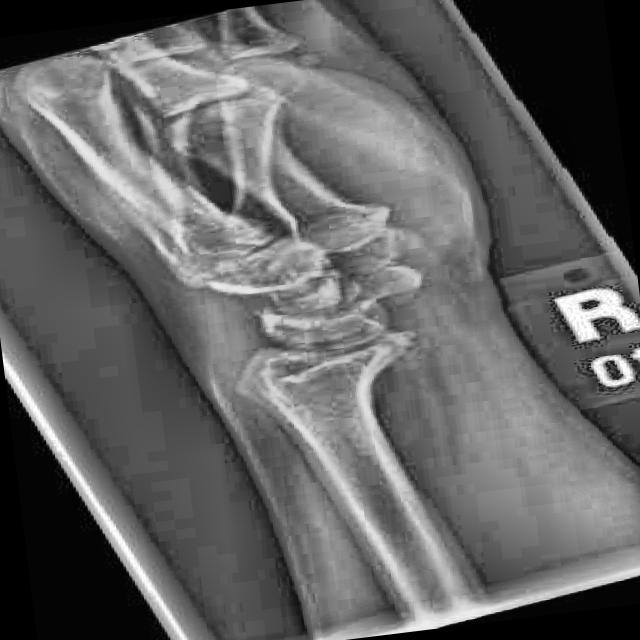fingers positive: (207, 308, 475, 417)
